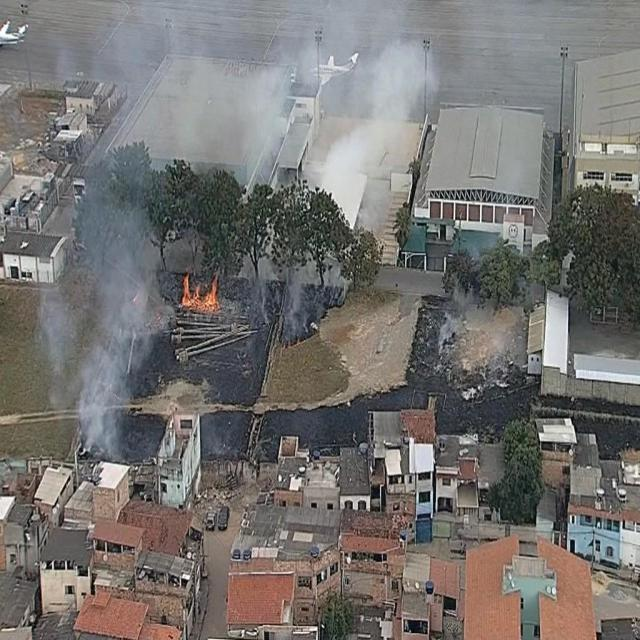Fire: (174, 263, 227, 311)
